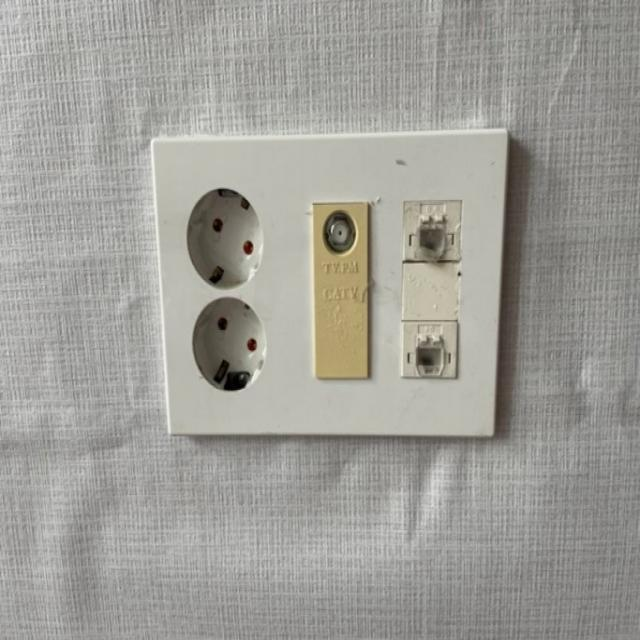typeb: (129, 116, 284, 474)
